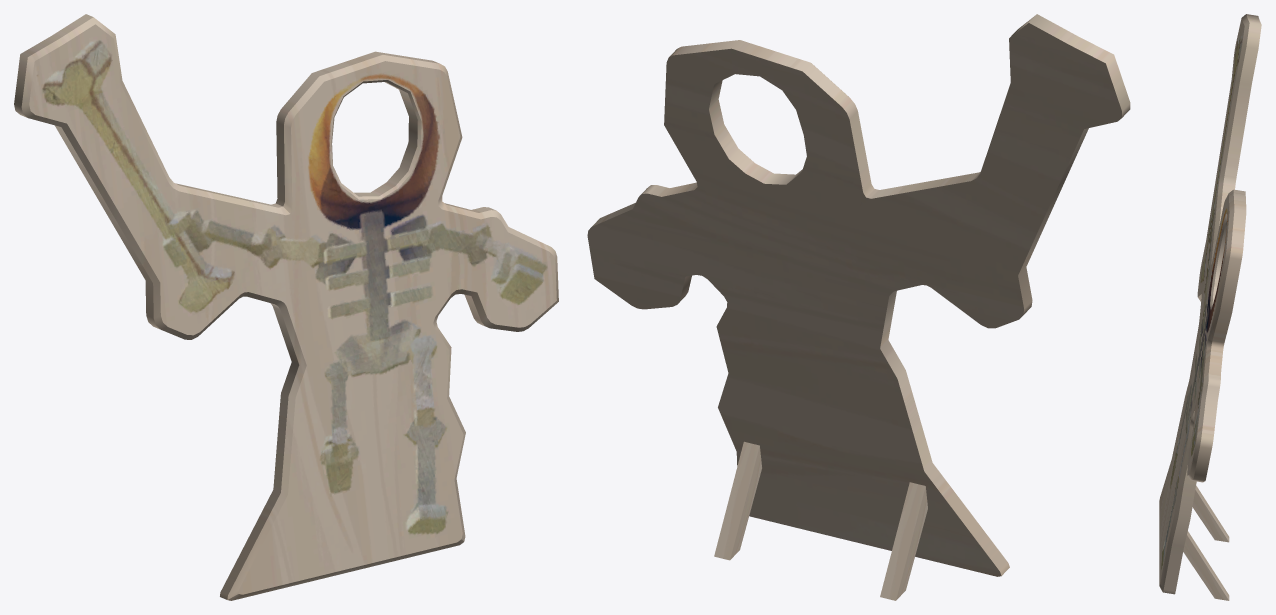
The model's file is skelly cutout.glb.
The picture shows the model from 3 angles, left to right: view 1: azimuth 30°, elevation 25°; view 2: azimuth 150°, elevation 25°; view 3: azimuth 270°, elevation 25°; orthographic projection. The views are drawn at different scales.
Parts seen in each view (by area): view 1: Quest_Dracula1_Pumpkin_Skeleton_Standee; view 2: Quest_Dracula1_Pumpkin_Skeleton_Standee; view 3: Quest_Dracula1_Pumpkin_Skeleton_Standee.
Boxes of the visible parts, x1=… form: Quest_Dracula1_Pumpkin_Skeleton_Standee: x1=14, y1=14, x2=558, y2=600; Quest_Dracula1_Pumpkin_Skeleton_Standee: x1=587, y1=14, x2=1130, y2=600; Quest_Dracula1_Pumpkin_Skeleton_Standee: x1=1159, y1=14, x2=1261, y2=600.
Size of the model in its own units: 1.86 by 2.01 by 0.4065.
Materials: 1 (1 with a texture image).
